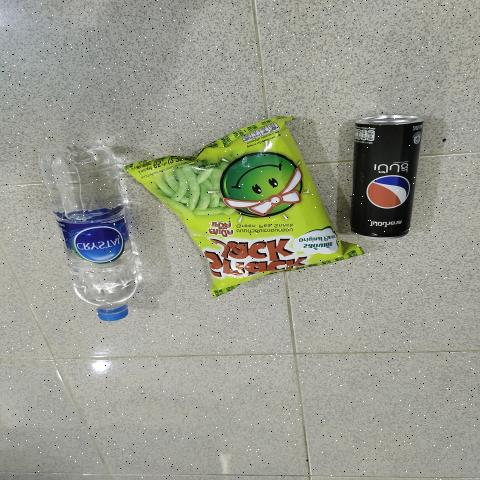crystal: (80, 149, 116, 326)
pepsi_black: (364, 119, 406, 236)
snack_jack: (149, 174, 322, 278)
